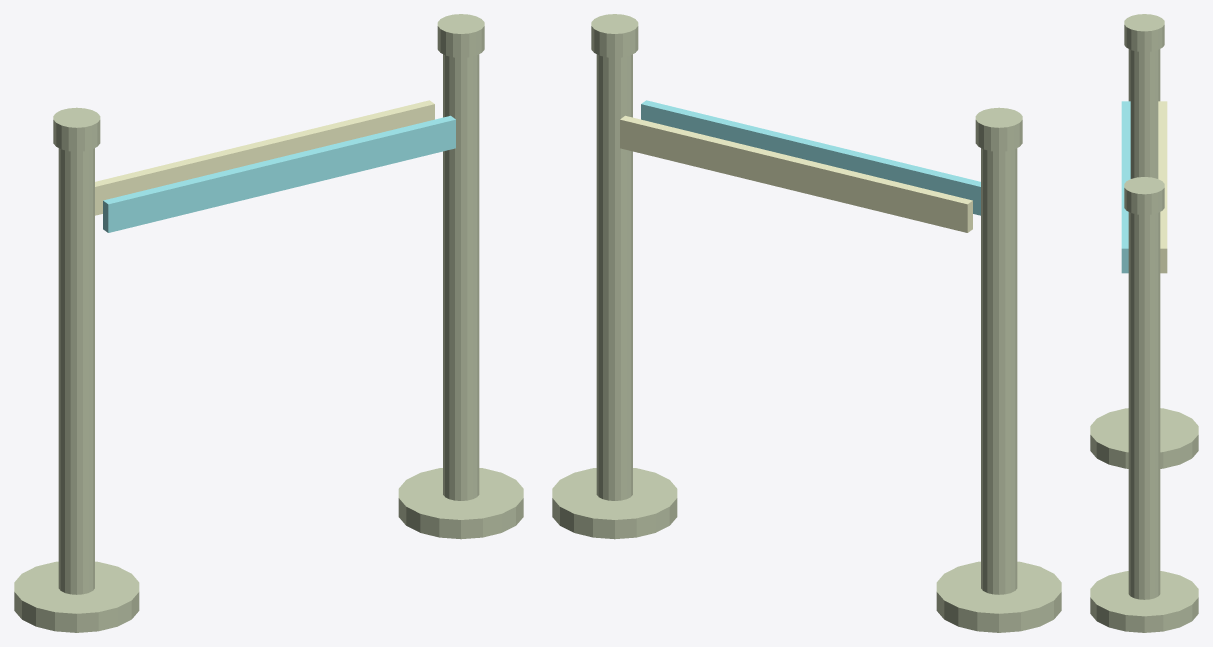
The model's file is furniture_queue_stanchion_pair.glb.
3 views of the same model, side by side, from view 1: azimuth 30°, elevation 25°; view 2: azimuth 150°, elevation 25°; view 3: azimuth 270°, elevation 25° (orthographic). The views are drawn at different scales.
Parts seen in each view (by area): view 1: post_left, post_right, belt_front, belt_back, base_left, base_right, cap_left, cap_right; view 2: post_left, post_right, belt_back, belt_front, base_left, base_right, cap_left, cap_right; view 3: post_right, base_right, base_left, post_left, cap_left, cap_right, belt_front, belt_back.
Part boxes in pixels (left/top/right/bottom): post_left: left=58, top=148, right=94, bottom=594; post_right: left=443, top=54, right=479, bottom=500; belt_front: left=103, top=115, right=455, bottom=232; belt_back: left=95, top=100, right=434, bottom=215; base_left: left=14, top=561, right=139, bottom=632; base_right: left=398, top=468, right=523, bottom=539; cap_left: left=53, top=107, right=100, bottom=151; cap_right: left=437, top=14, right=484, bottom=57; post_left: left=981, top=148, right=1017, bottom=594; post_right: left=596, top=54, right=632, bottom=500; belt_back: left=620, top=115, right=972, bottom=232; belt_front: left=641, top=100, right=980, bottom=215; base_left: left=936, top=561, right=1061, bottom=632; base_right: left=552, top=468, right=677, bottom=539; cap_left: left=975, top=107, right=1022, bottom=151; cap_right: left=591, top=14, right=638, bottom=57; post_right: left=1128, top=212, right=1160, bottom=599; base_right: left=1090, top=571, right=1198, bottom=632; base_left: left=1090, top=408, right=1198, bottom=468; post_left: left=1128, top=49, right=1160, bottom=178; cap_left: left=1124, top=14, right=1164, bottom=52; cap_right: left=1124, top=177, right=1164, bottom=214; belt_front: left=1121, top=101, right=1130, bottom=273; belt_back: left=1158, top=101, right=1167, bottom=273.
Bounding box in the file's own units: 1.08 × 1.02 × 0.2364.
